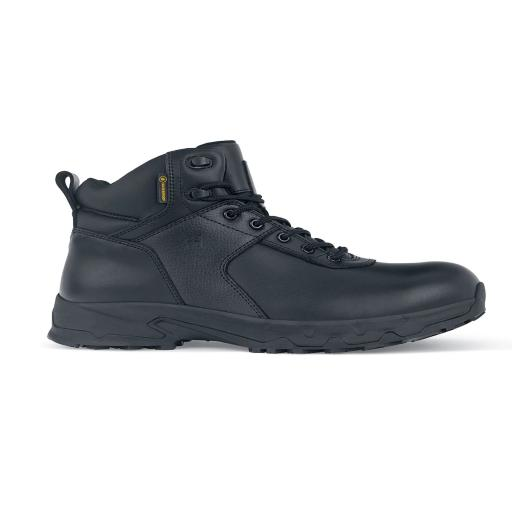safety_boots: (57, 135, 504, 346)
